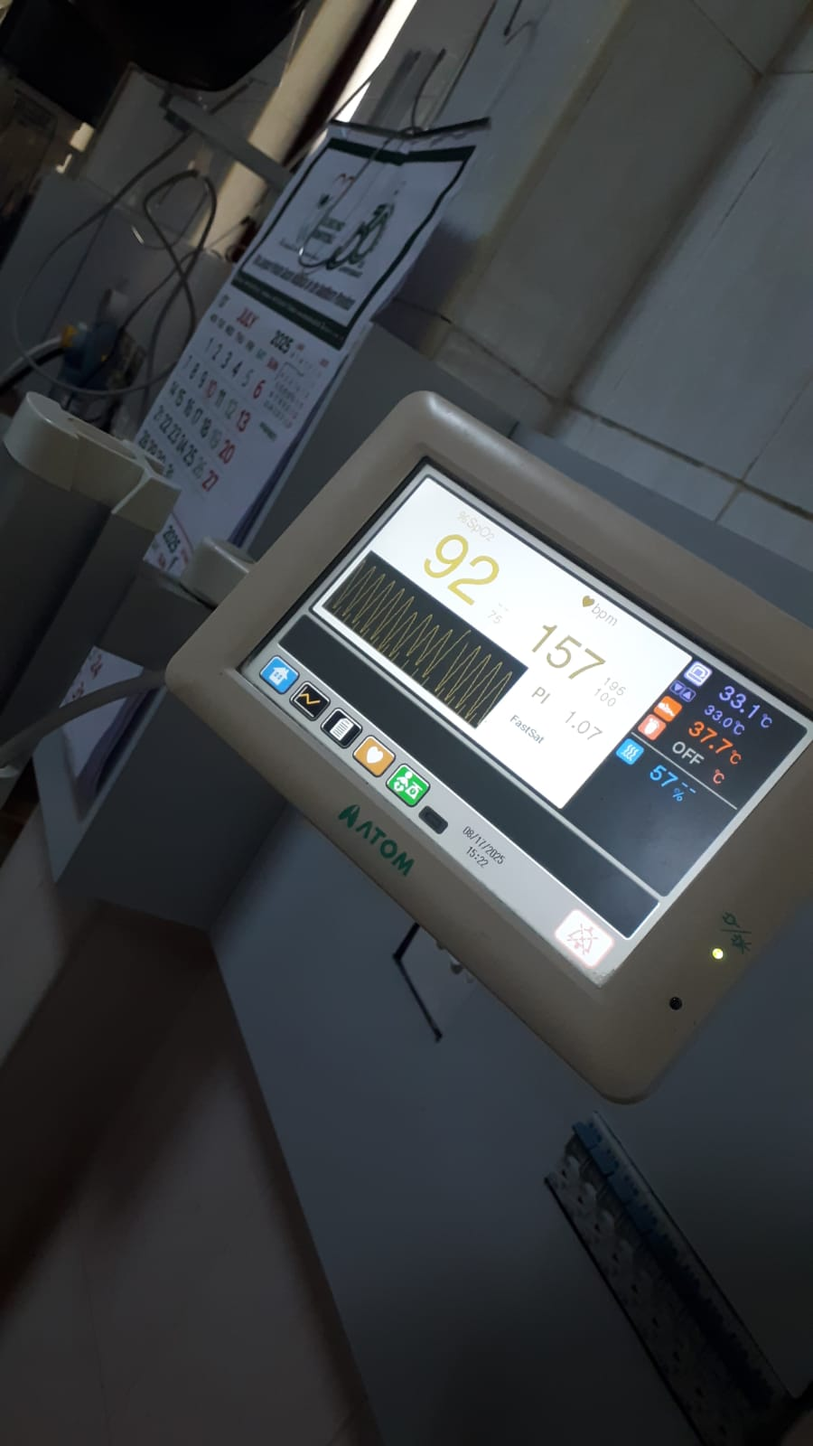air_temp_value: (724, 668, 787, 702)
heart_rate_value: (546, 612, 626, 656)
humidity_value: (654, 752, 698, 783)
skin_temp_value: (692, 712, 747, 738)
spo2_value: (441, 515, 544, 579)
